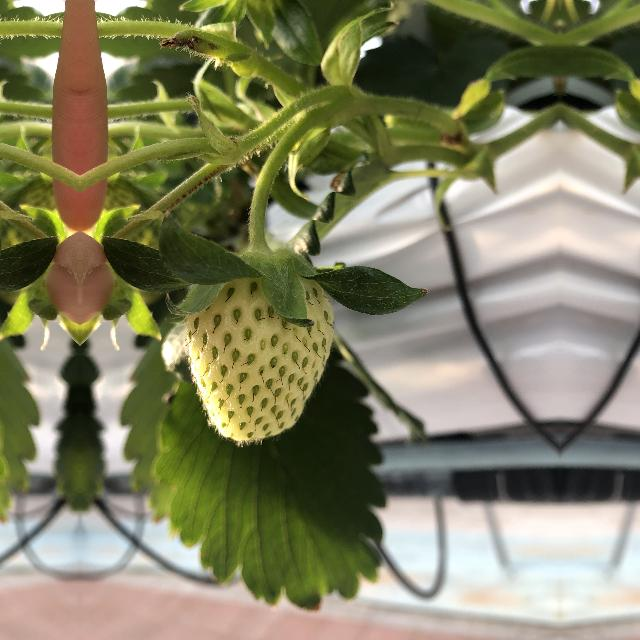Health_25: (168, 260, 338, 452)
